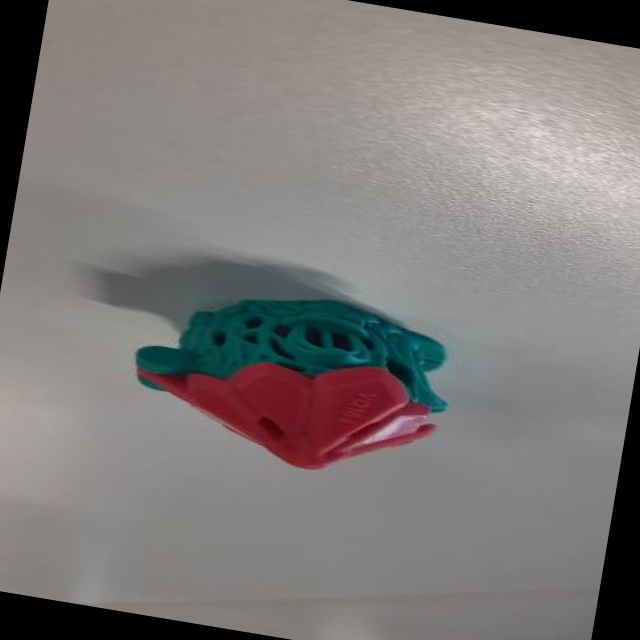House: (110, 258, 486, 504)
